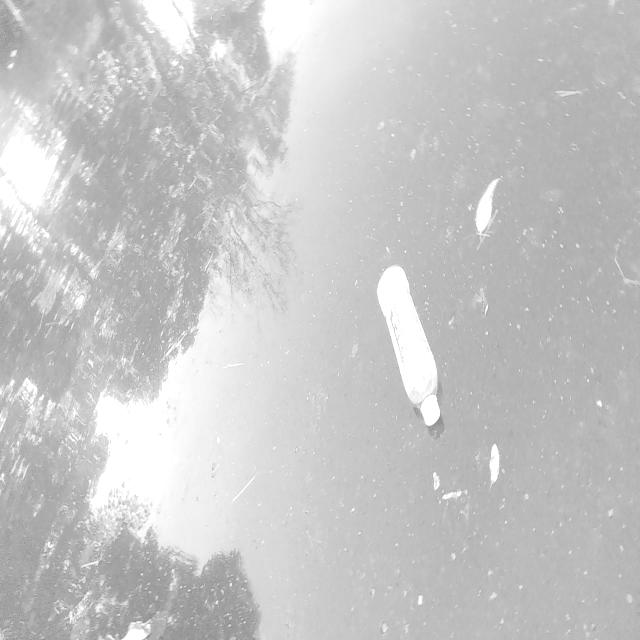bottle: (362, 245, 452, 440)
